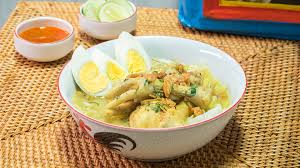soto: (58, 28, 244, 150)
